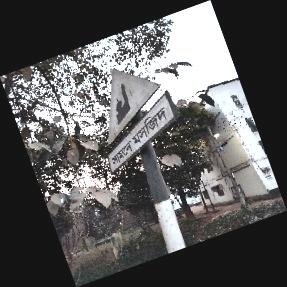Mosque in front: (106, 68, 181, 175)
